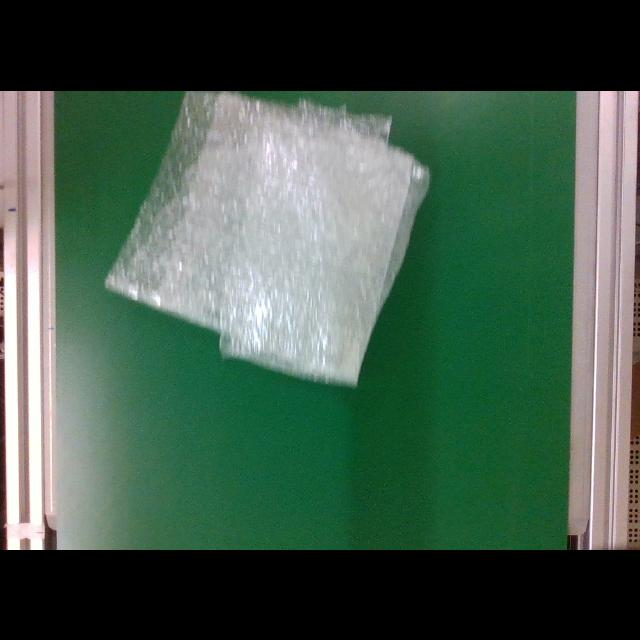scrap_plastic: (105, 93, 431, 389)
